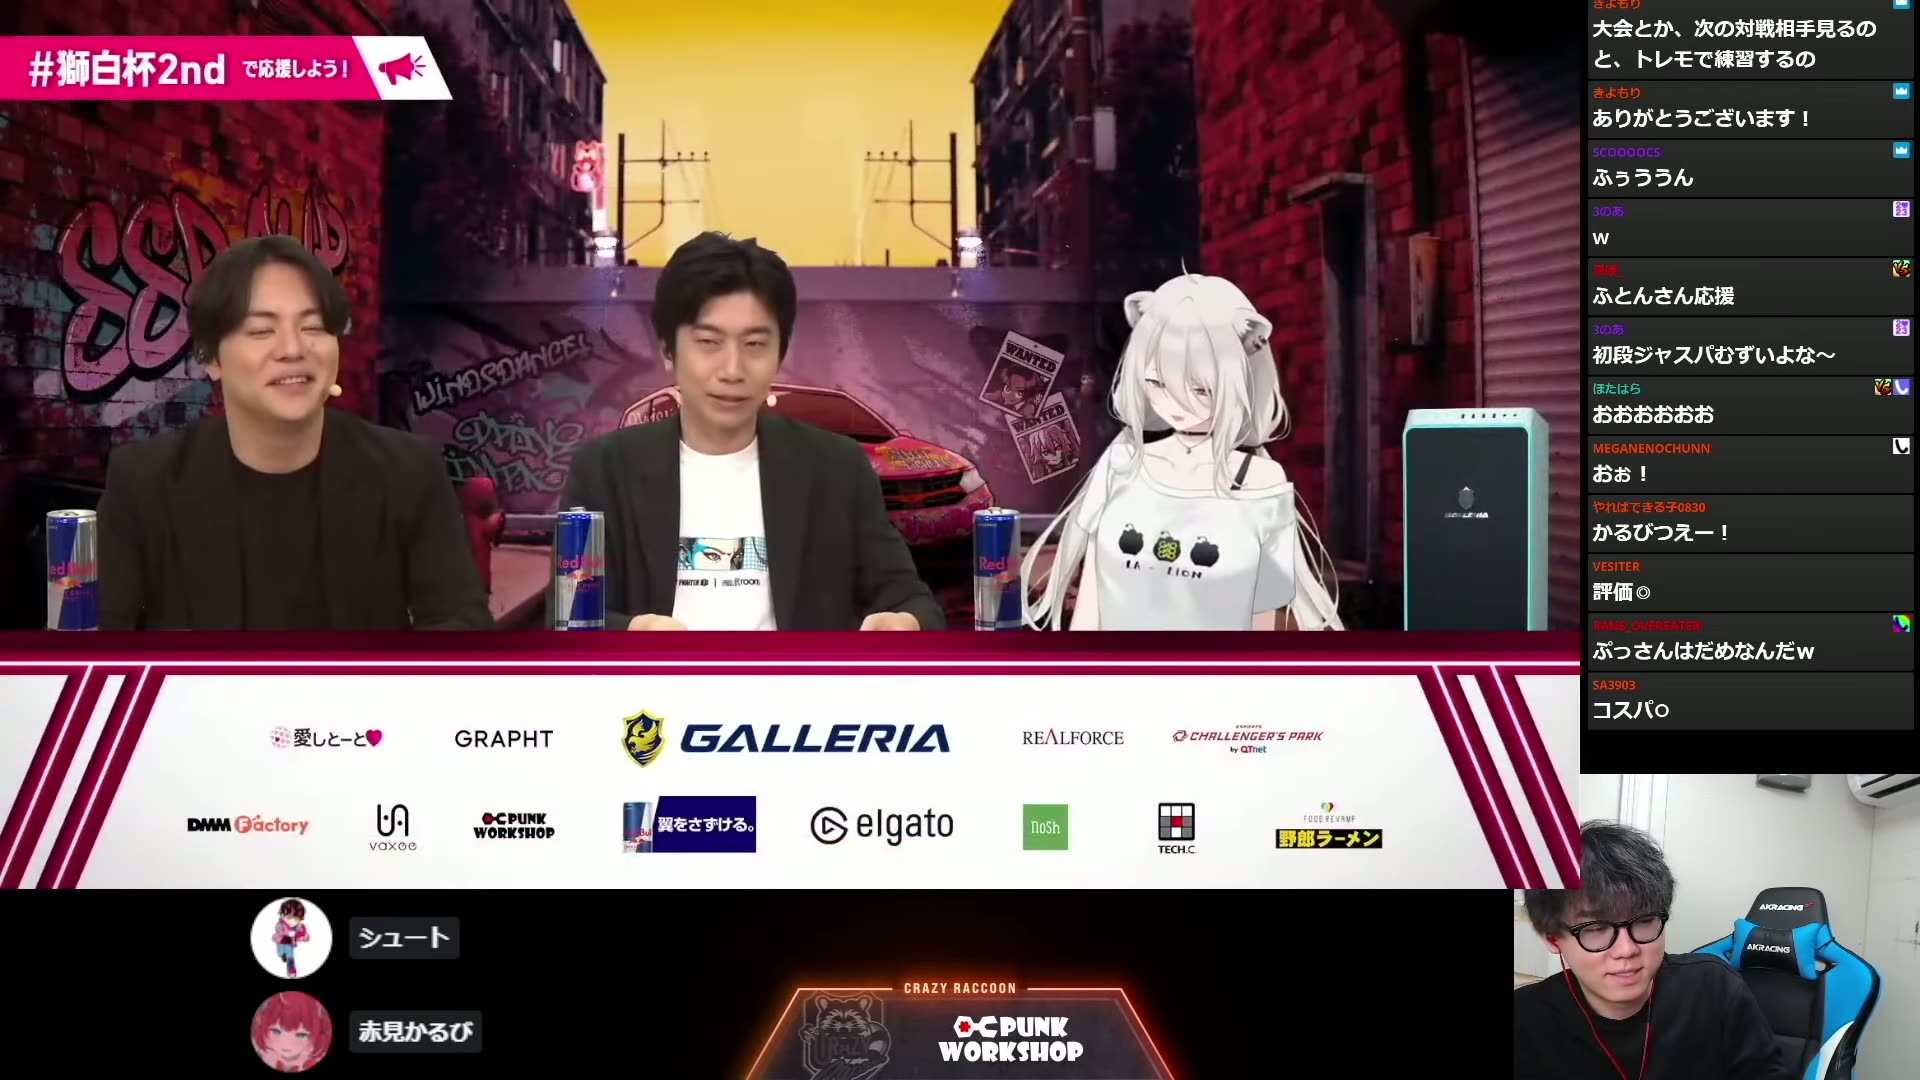stream_tag: (1516, 775, 1917, 1080)
